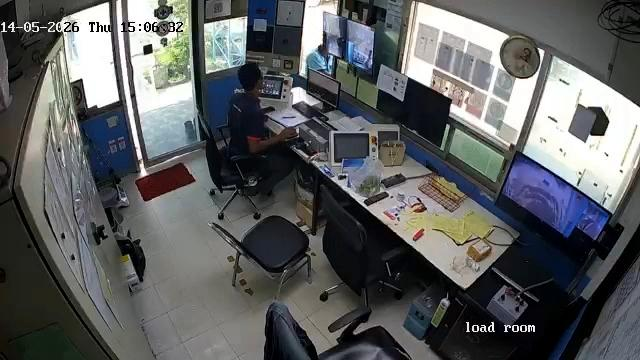Head: (239, 62, 266, 90)
People: (226, 60, 291, 207)
Phone: (263, 106, 276, 113)
